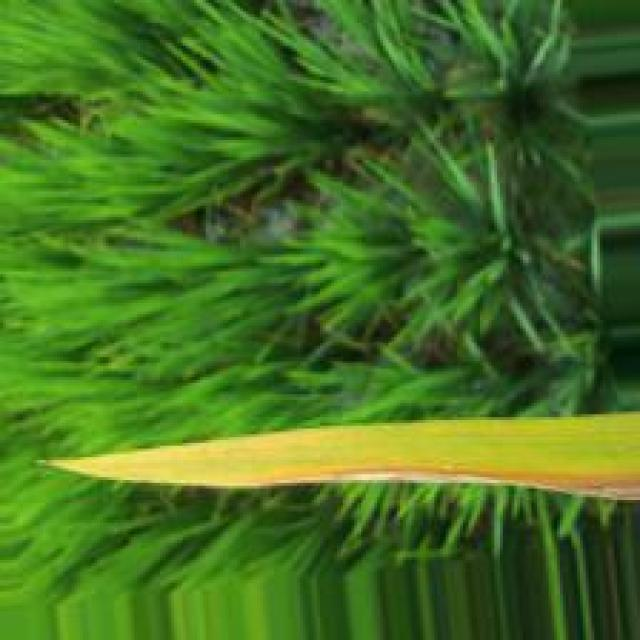Bacterial_Leaf_Blight: (211, 465, 640, 507)
